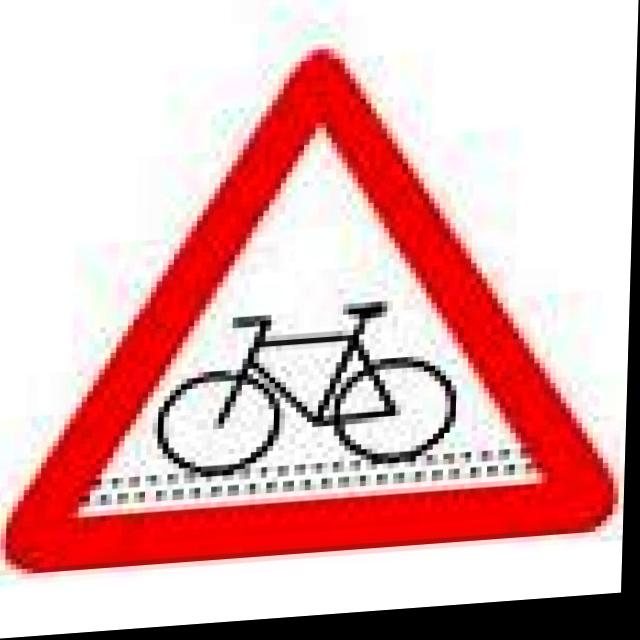CYCLE_CROSSING: (5, 32, 633, 589)
